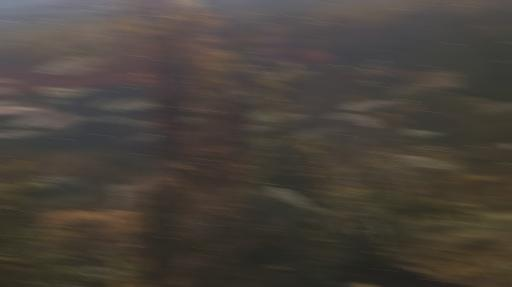Fish: (28, 176, 93, 205), (106, 177, 156, 209), (268, 187, 317, 210), (38, 53, 93, 73), (61, 55, 108, 75), (11, 111, 68, 127), (395, 155, 456, 169), (38, 115, 95, 128), (108, 97, 153, 111), (41, 86, 94, 97), (302, 48, 335, 65), (60, 62, 99, 75), (0, 105, 47, 115), (297, 126, 336, 137), (254, 35, 291, 45), (1, 130, 47, 138), (403, 129, 444, 137), (248, 109, 273, 122), (92, 96, 119, 108), (480, 104, 511, 114), (100, 114, 129, 124), (263, 23, 288, 34), (328, 113, 365, 120), (358, 116, 379, 128), (127, 101, 155, 110), (128, 120, 157, 128), (268, 71, 290, 81), (371, 100, 395, 109), (132, 133, 157, 141), (245, 124, 270, 132), (226, 90, 251, 96), (0, 99, 21, 106), (0, 85, 14, 95), (288, 113, 311, 119), (182, 117, 199, 123), (49, 100, 68, 105), (0, 79, 18, 84), (0, 133, 8, 137), (508, 145, 511, 147)
